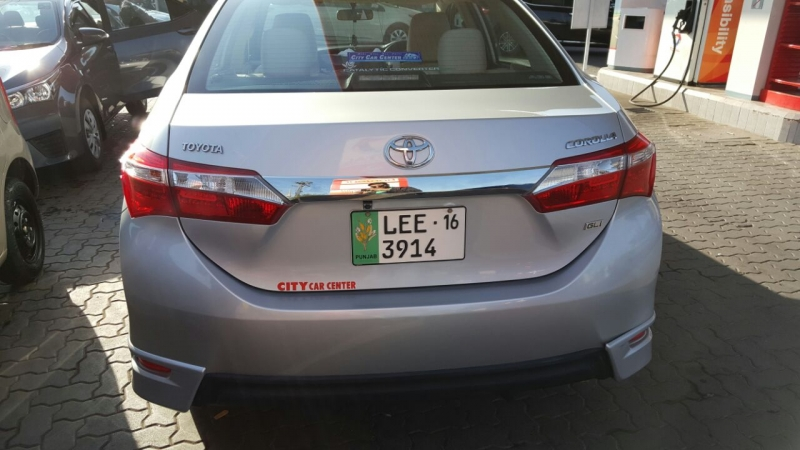plate: (348, 203, 471, 266)
